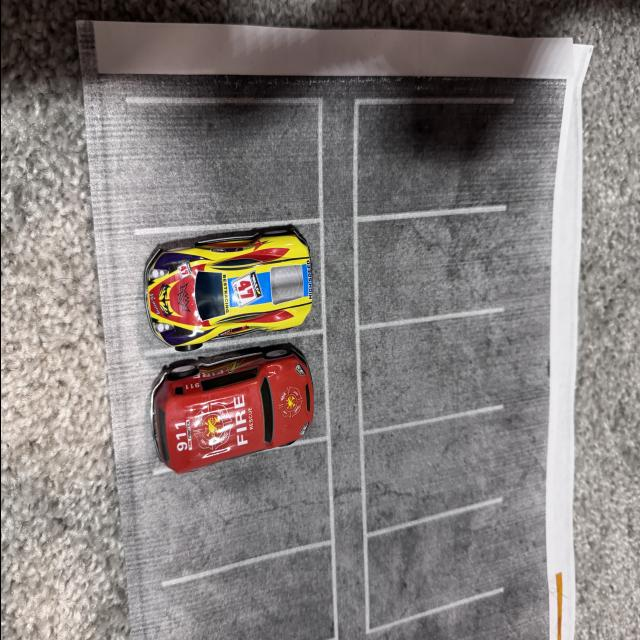Car: (148, 326, 344, 476), (133, 214, 320, 358)
